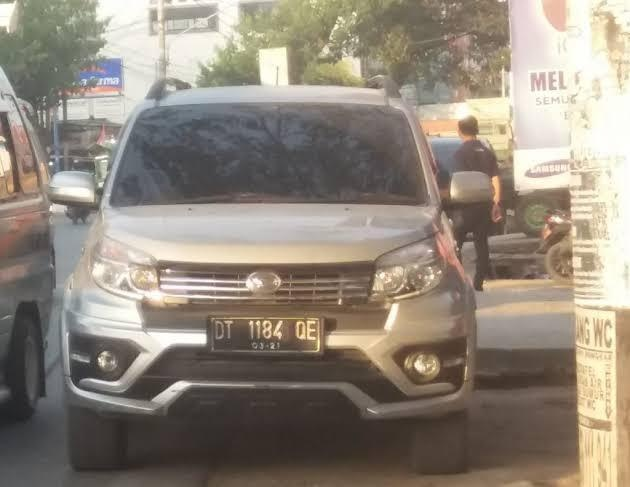plate: (210, 313, 321, 354)
